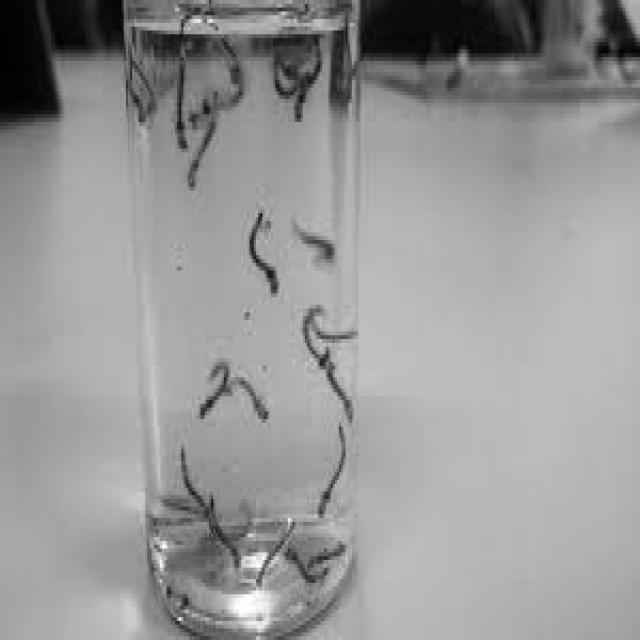larvas: (202, 34, 244, 111), (316, 427, 348, 518), (248, 214, 278, 294), (205, 495, 239, 564), (188, 112, 218, 190), (198, 358, 230, 419), (290, 213, 331, 256), (322, 362, 350, 423), (232, 373, 266, 423), (179, 446, 207, 506), (175, 22, 188, 150), (255, 532, 285, 585), (271, 46, 303, 95), (294, 57, 316, 123), (133, 52, 156, 114), (299, 309, 324, 358), (284, 550, 312, 580), (311, 541, 345, 563), (130, 87, 145, 122)
